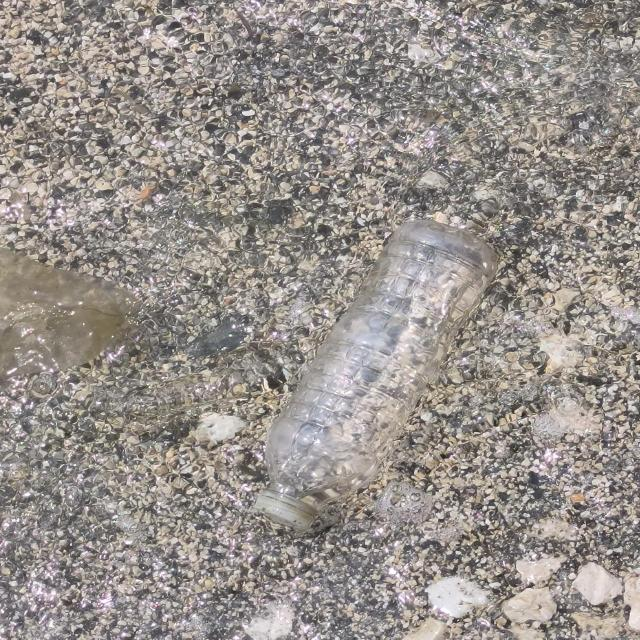plastic_waste: (251, 218, 503, 538)
